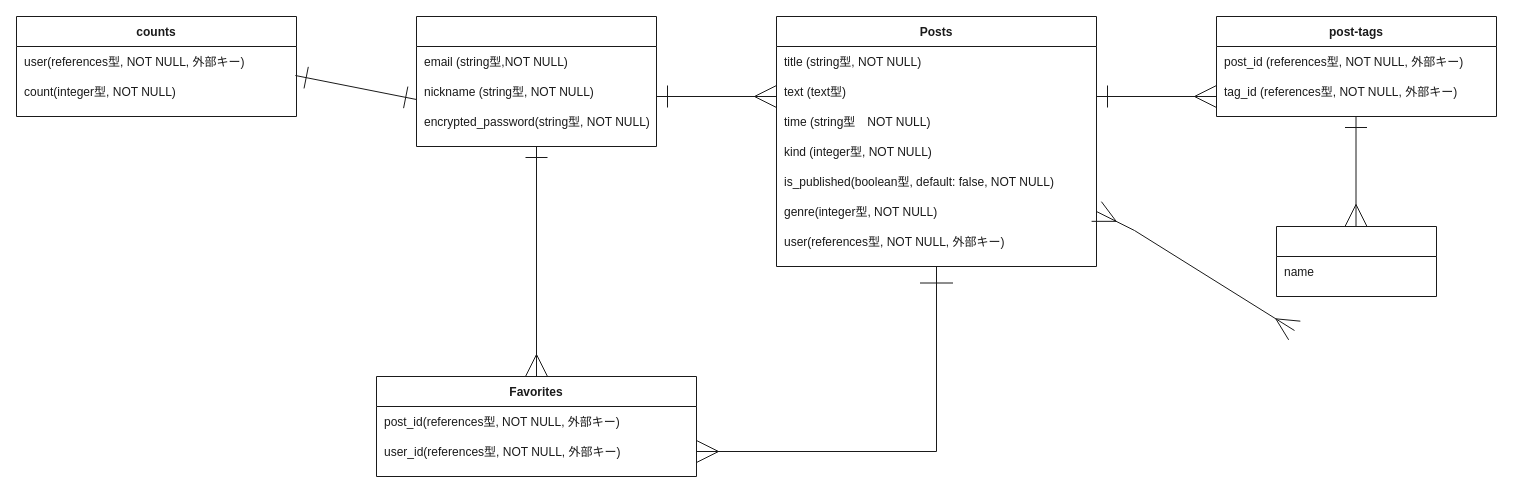
Image size: 1513x493. Some labels were removed from this diagram. The shapes that lost their labels are listed below. From the top down, each one's box as (x1, y1, x2, y2) in pixels, then its label:
(416, 16, 656, 146): Users
(1276, 226, 1436, 296): tags
